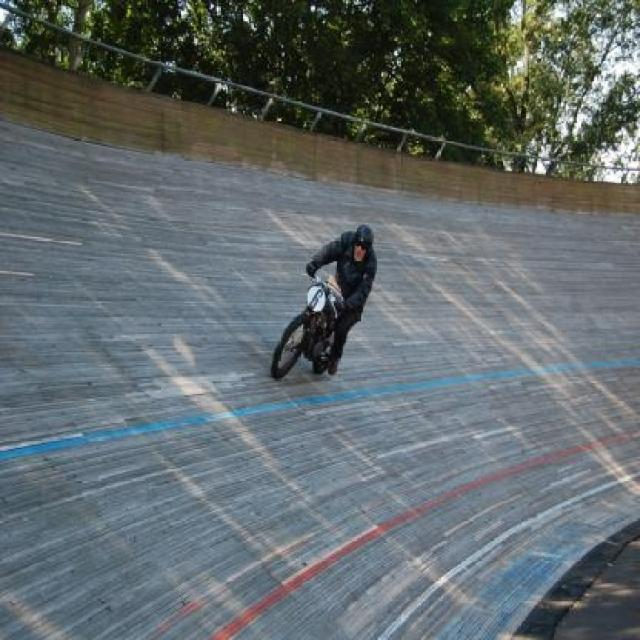Cycle: (280, 232, 396, 356)
